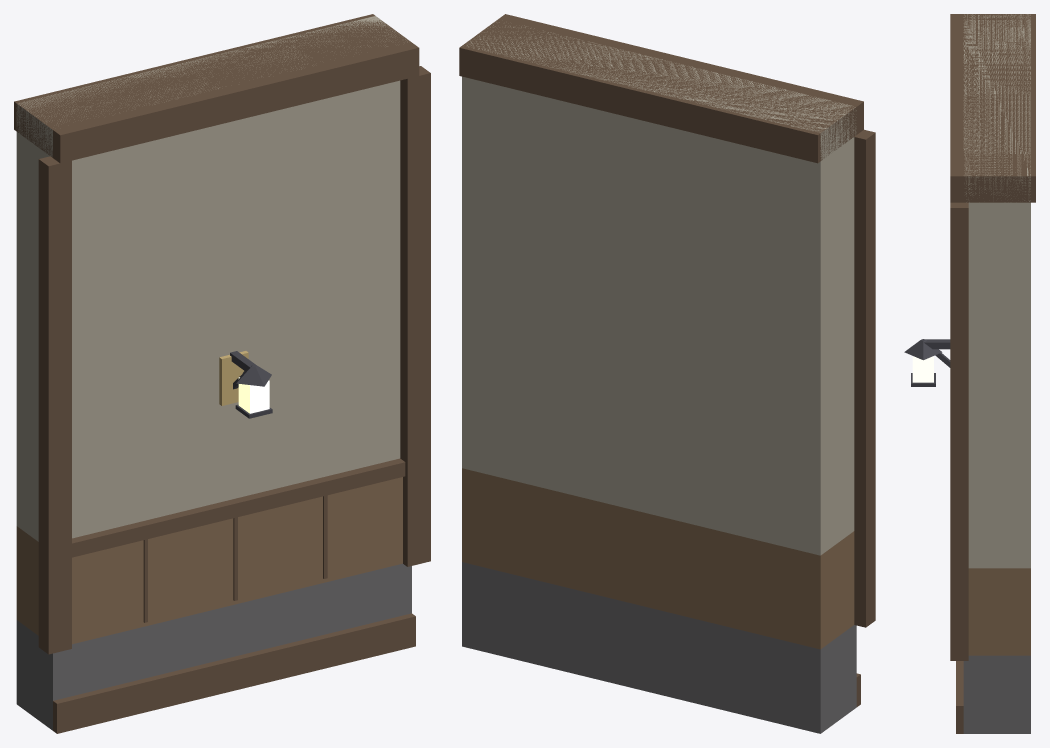
File: hall_sconce.glb
3 renders of one model, left to right at view 1: azimuth 30°, elevation 25°; view 2: azimuth 150°, elevation 25°; view 3: azimuth 270°, elevation 25°, orthographic. The views are drawn at different scales.
Parts seen in each view (by area): view 1: Upper, Plinth; view 2: Upper, Plinth; view 3: Upper, Plinth.
Part boxes in pixels (x1=…): Upper: x1=14, y1=14, x2=430, y2=654; Plinth: x1=16, y1=563, x2=415, y2=733; Upper: x1=459, y1=14, x2=875, y2=649; Plinth: x1=462, y1=562, x2=860, y2=733; Upper: x1=904, y1=14, x2=1035, y2=660; Plinth: x1=956, y1=655, x2=1030, y2=733.
Size of the model in its own units: 4.26 by 6.4 by 1.37.
